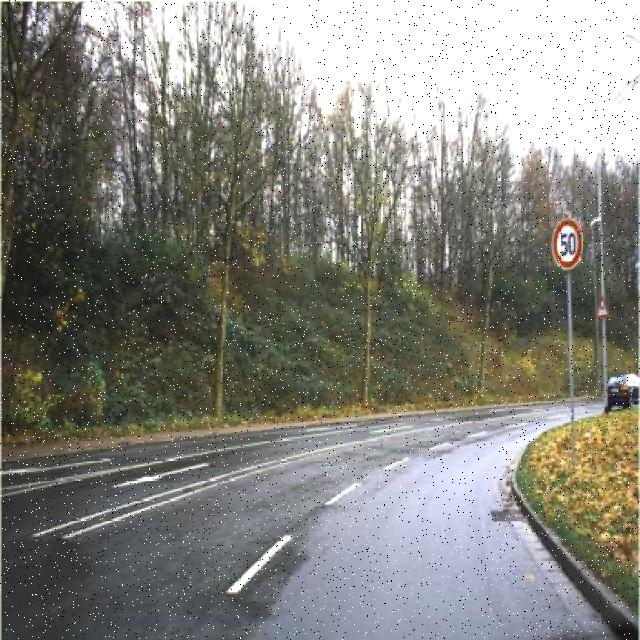Ograniczenie predkosci do 50: (552, 216, 586, 272)
